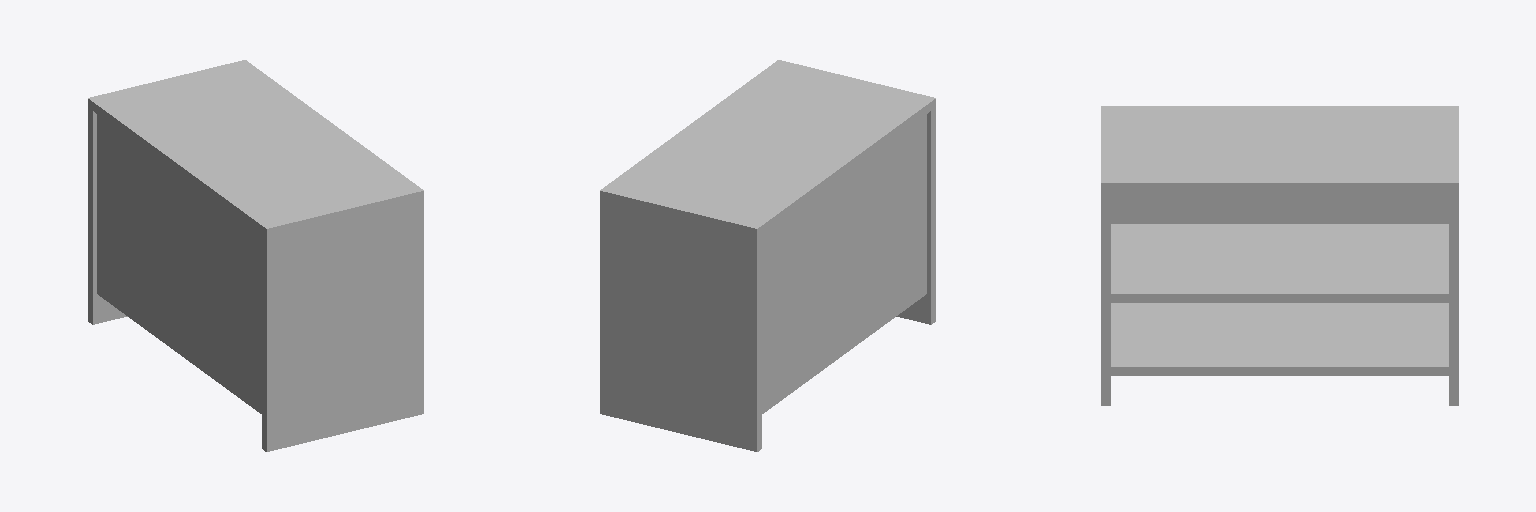
File: Tumb02.obj
3 views of the same model, side by side, from view 1: azimuth 30°, elevation 25°; view 2: azimuth 150°, elevation 25°; view 3: azimuth 270°, elevation 25° (orthographic).
Visible parts, largest first — view 1: Tumb02_LOD0_Shelf01.002; view 2: Tumb02_LOD0_Shelf01.002; view 3: Tumb02_LOD0_Shelf01.002.
Boxes of the visible parts, x1,y1,x2,y2 form: Tumb02_LOD0_Shelf01.002: [88, 60, 423, 451]; Tumb02_LOD0_Shelf01.002: [600, 60, 935, 451]; Tumb02_LOD0_Shelf01.002: [1101, 106, 1458, 405].
Size of the model in its own units: 0.6148 by 0.8322 by 1.21.